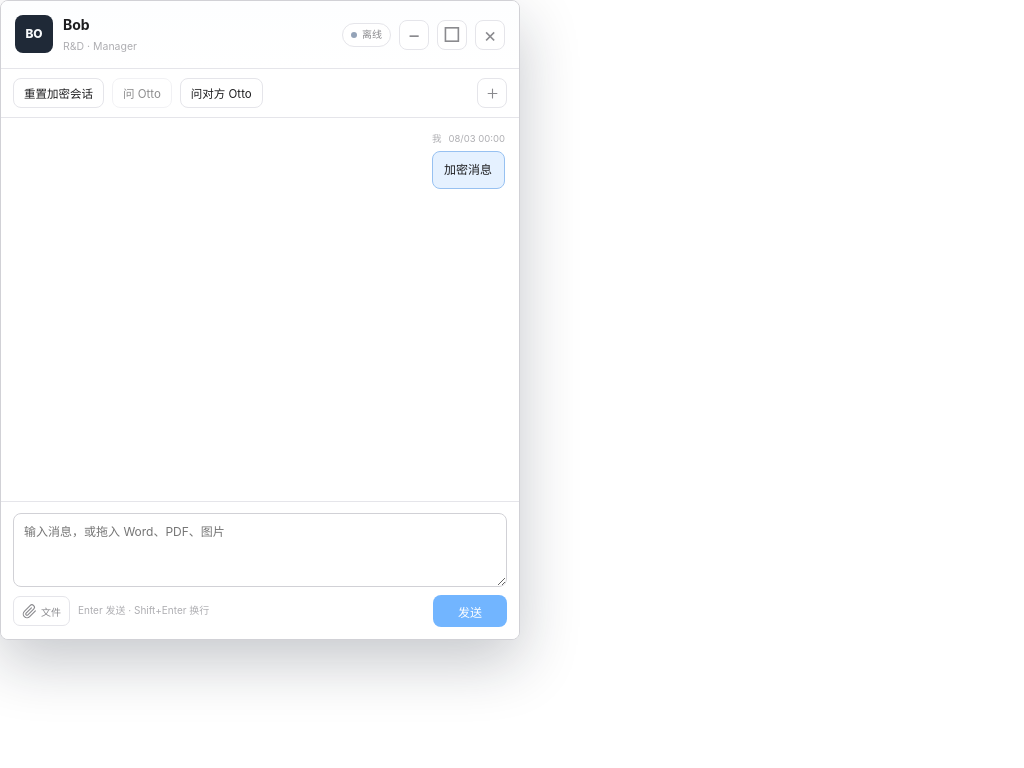
Test: OrganizationTree › allows the user to explicitly reset an active MLS private-chat session
This screenshot has width=1024, height=768.
Click the button "重置加密会话". click: (58, 93)
box: [13, 78, 104, 108]
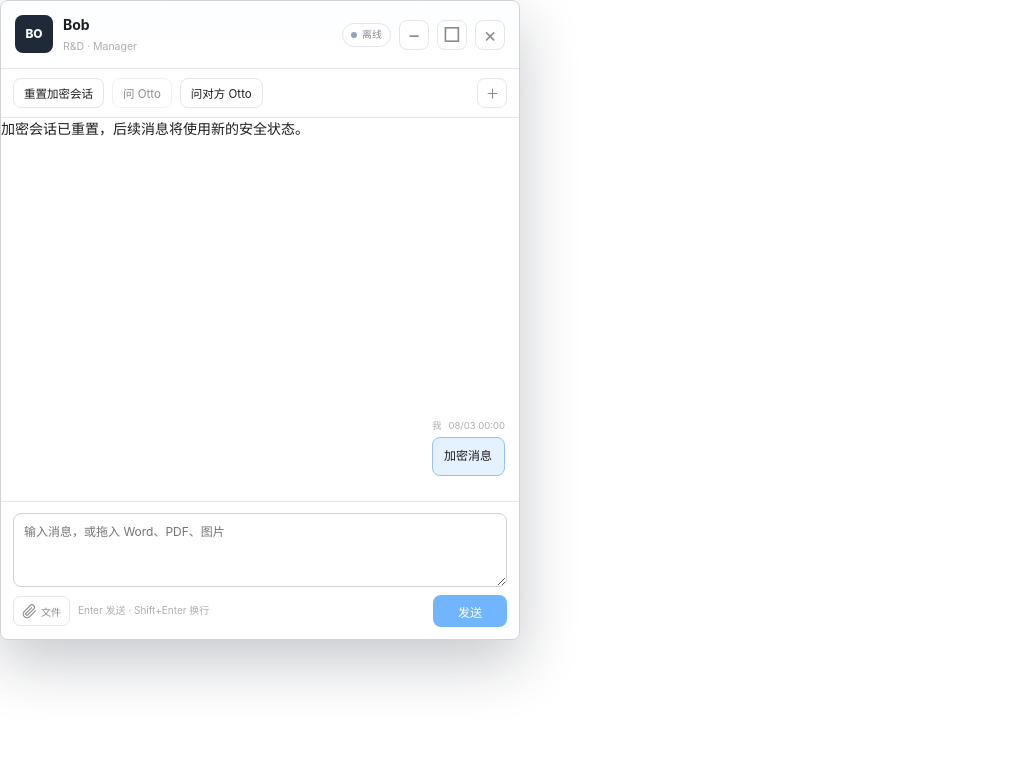
Expected: the message shows "加密会话已重置", [1, 120, 309, 137]
